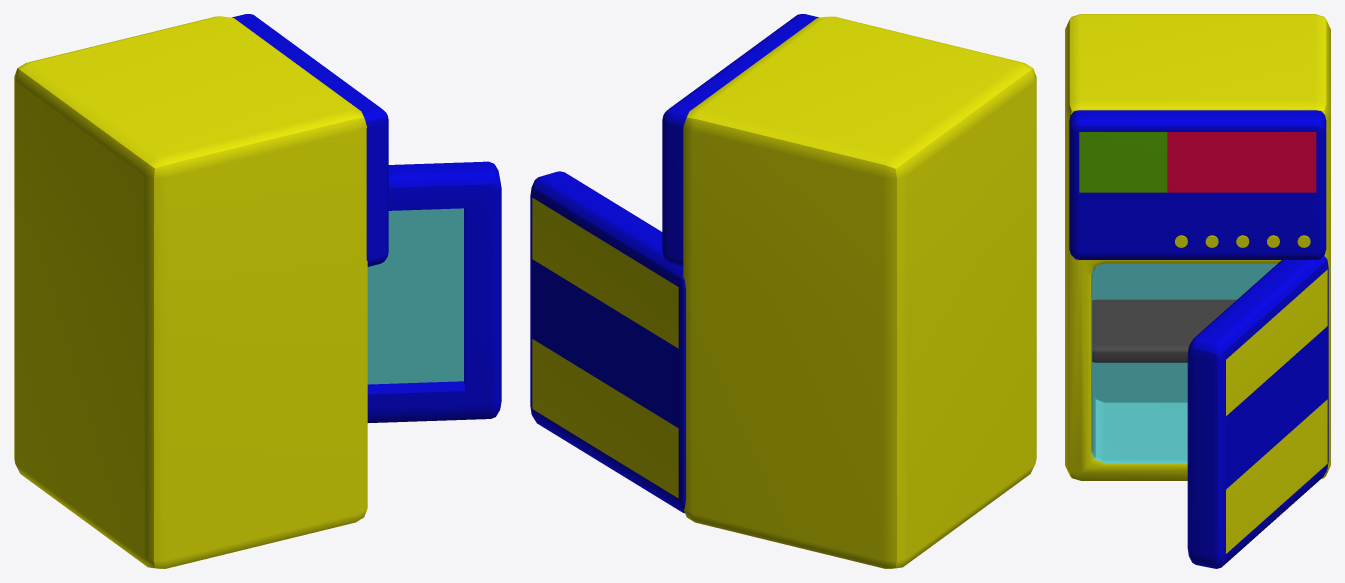
File: frize1.fbx
The picture shows the model from 3 angles, left to right: view 1: azimuth 30°, elevation 25°; view 2: azimuth 150°, elevation 25°; view 3: azimuth 270°, elevation 25°; orthographic projection. The views are drawn at different scales.
Visible parts, largest first — view 1: pCube41, pCube45, pCube43; view 2: pCube41, pCube45, pCube43; view 3: pCube41, pCube43, pCube45, pCube44.
Part boxes in pixels (x1,y1,x2,y2): pCube41: (14, 16, 367, 568); pCube45: (367, 161, 501, 422); pCube43: (232, 14, 388, 266); pCube41: (683, 16, 1036, 568); pCube45: (530, 171, 685, 513); pCube43: (662, 14, 819, 266); pCube41: (1065, 14, 1330, 480); pCube43: (1069, 110, 1326, 259); pCube45: (1187, 255, 1328, 568); pCube44: (1092, 299, 1236, 362).
Bounding box in the file's own units: 9.53 × 8.75 × 5.56.
